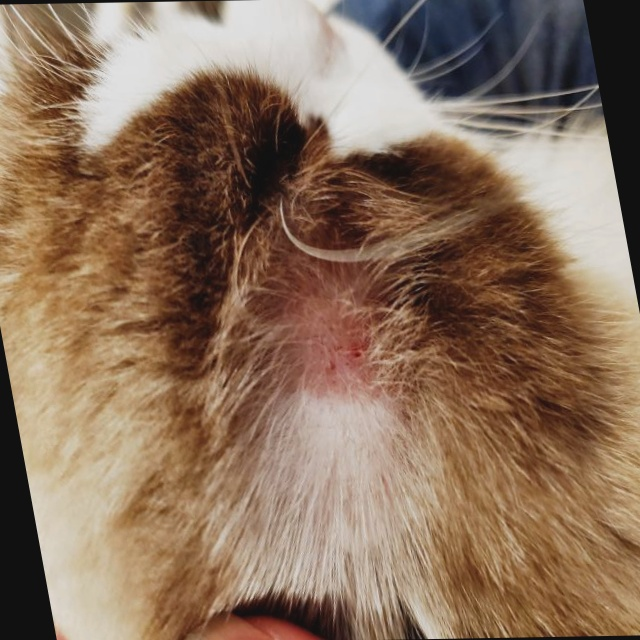ringworm: (235, 285, 393, 400)
